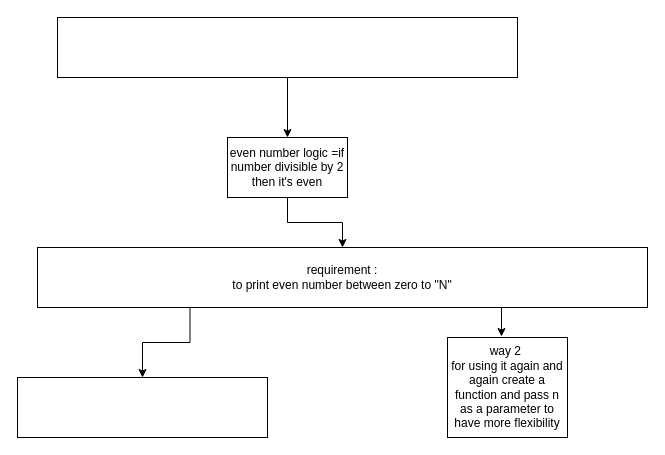
This 665x455 diagram has some shape labels left out. Here are the shapes that lost their labels. From the top down, the centre of each, then its label:
(287,47): Even Number Printing from zero to N
(142,407): WAY 1 use the for loop and inside ituse the program logic
